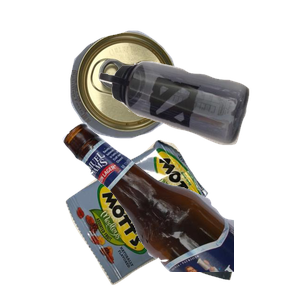glass: (60, 120, 300, 300)
metal: (68, 28, 237, 159)
plastic: (97, 59, 300, 197)
trash: (63, 137, 289, 300)
